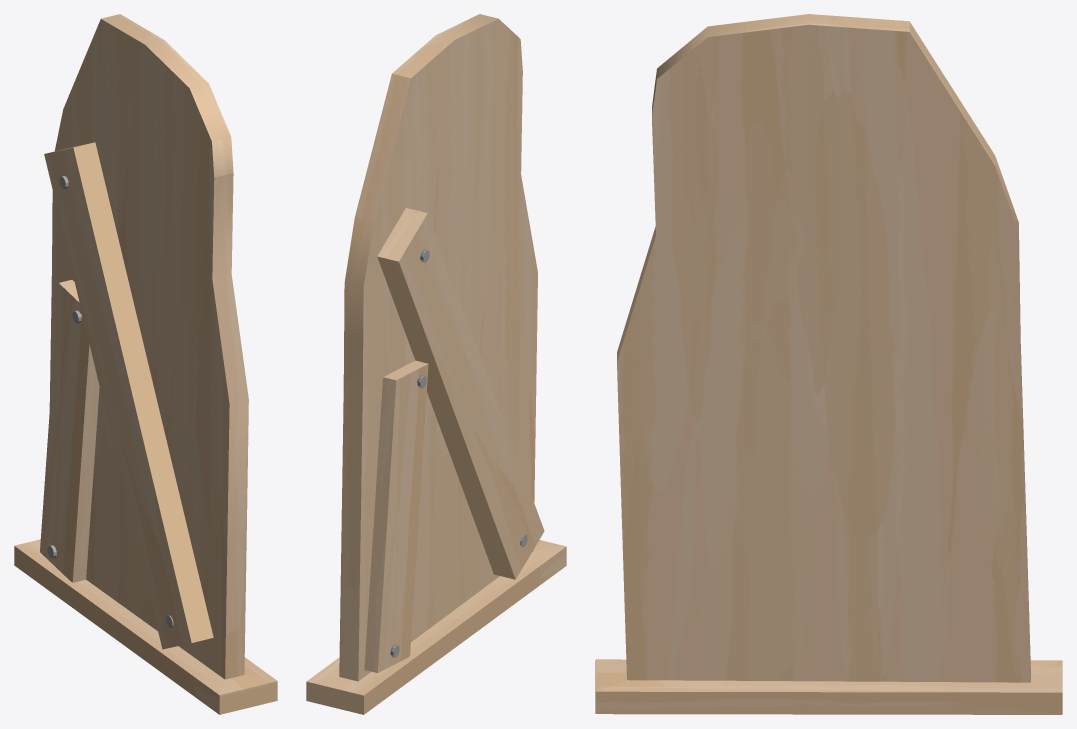
The model's file is cutout_tall.fbx.
The picture shows the model from 3 angles, left to right: view 1: azimuth 30°, elevation 25°; view 2: azimuth 150°, elevation 25°; view 3: azimuth 270°, elevation 25°; orthographic projection. The views are drawn at different scales.
Parts seen in each view (by area): view 1: pasted__pCylinder1; view 2: pasted__pCylinder1; view 3: pasted__pCylinder1.
Part boxes in pixels (x1=…): pasted__pCylinder1: x1=14, y1=14, x2=277, y2=714; pasted__pCylinder1: x1=306, y1=14, x2=566, y2=714; pasted__pCylinder1: x1=595, y1=14, x2=1062, y2=714.
Size of the model in its own units: 0.6724 by 5.84 by 3.64.
Materials: 2 (1 with a texture image).
